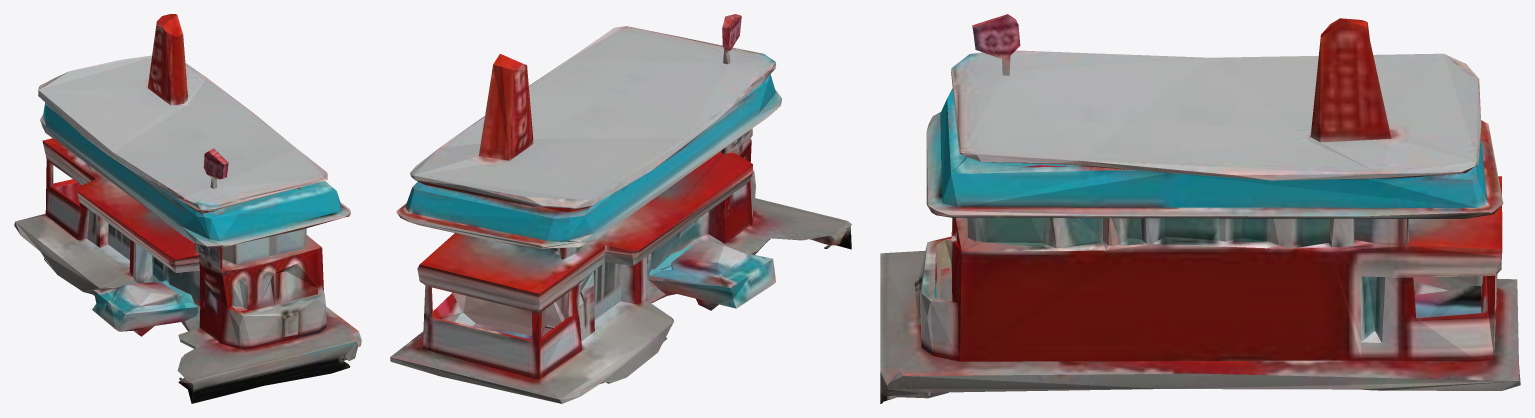
The model's file is desert_diner.glb.
3 renders of one model, left to right at view 1: azimuth 30°, elevation 25°; view 2: azimuth 150°, elevation 25°; view 3: azimuth 270°, elevation 25°, orthographic. The views are drawn at different scales.
Parts seen in each view (by area): view 1: textured; view 2: textured; view 3: textured.
Part boxes in pixels (box(x1,y1,x2,y2)): textured: box(14, 14, 361, 403); textured: box(390, 14, 851, 403); textured: box(880, 14, 1520, 403).
Size of the model in its own units: 1.01 by 1.26 by 1.96.
Materials: 1 (1 with a texture image).
